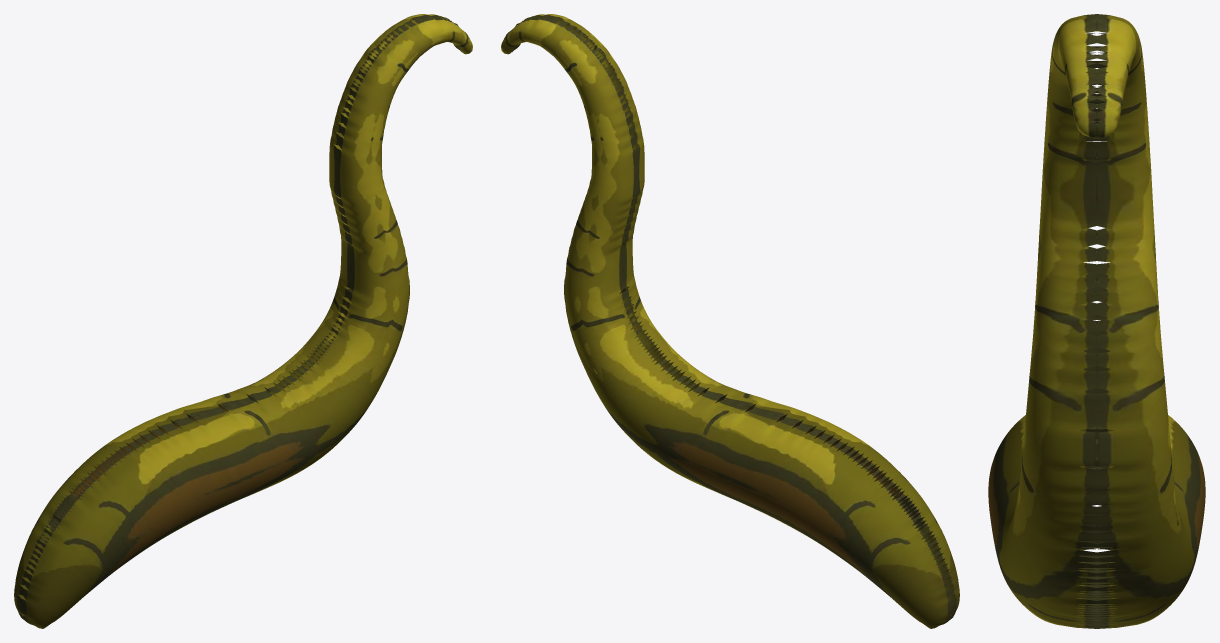
Rendered from rising_vine.glb.
The picture shows the model from 3 angles, left to right: view 1: azimuth 30°, elevation 25°; view 2: azimuth 150°, elevation 25°; view 3: azimuth 270°, elevation 25°; orthographic projection. The views are drawn at different scales.
Visible parts, largest first — view 1: rising_vine; view 2: rising_vine; view 3: rising_vine.
Part boxes in pixels (<box>): rising_vine: <box>14,14,472,628</box>; rising_vine: <box>501,14,959,628</box>; rising_vine: <box>988,14,1205,628</box>.
Bounding box in the file's own units: 0.988 × 1.07 × 0.2374.
Materials: 1 (1 with a texture image).
